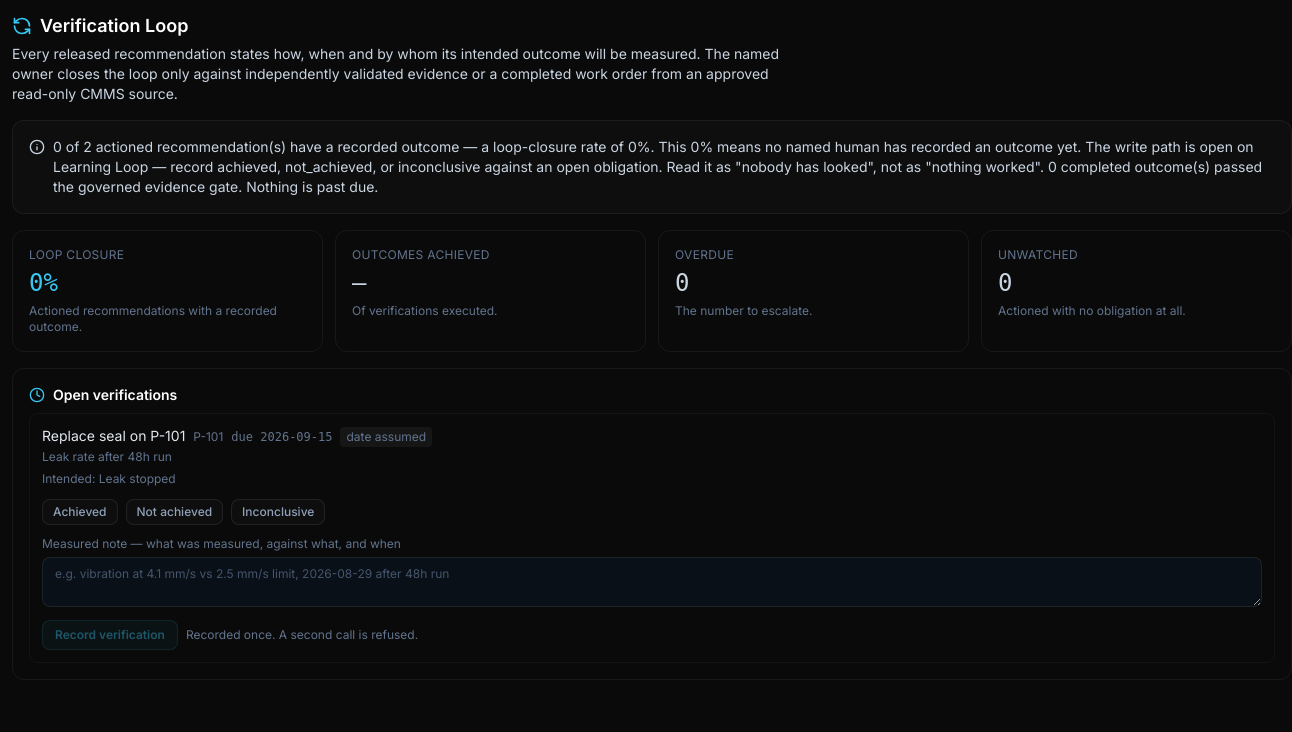
Test case: VerificationLoop — named-human recorder › surfaces a second-call refusal from the wrapper
The width and height of the screenshot is (1292, 732).
Expected: the text "Replace seal on P-101" is shown, 42,426 -> 185,446
Click the radio button labelled "Achieved" at x=80, y=512, box 42,498 -> 118,524
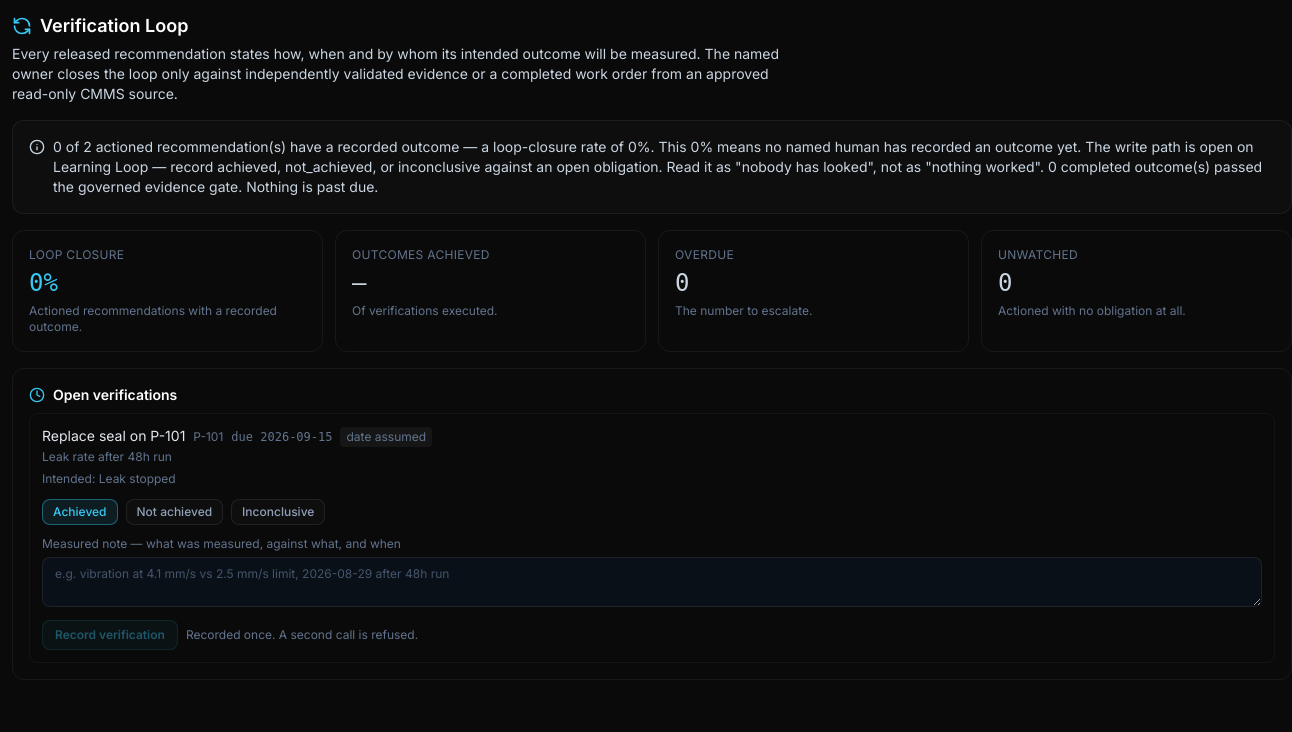
Replace the text in the text box with placeholder "vibration at 4.1 mm/s" with "looked again the next shift" at x=652, y=582, box 42,556 -> 1262,606
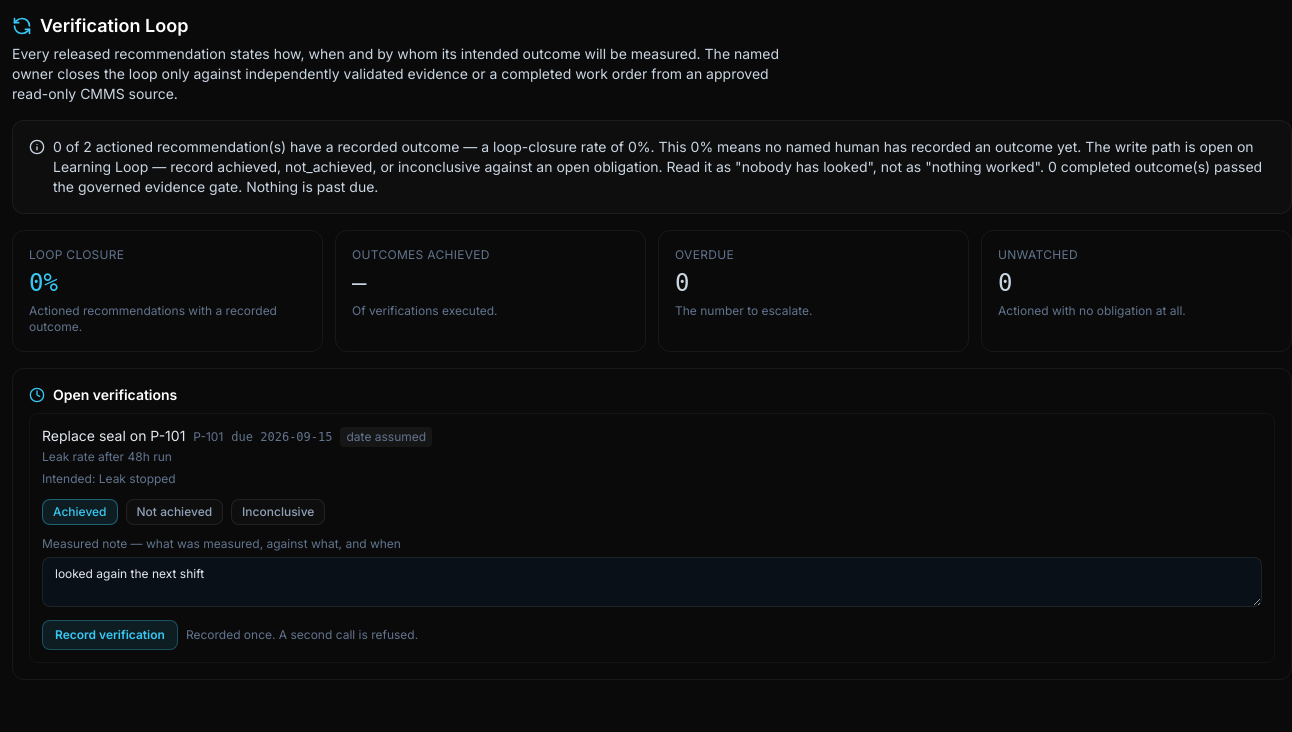
Click the button "Record verification" at x=110, y=634, box 42,620 -> 178,650
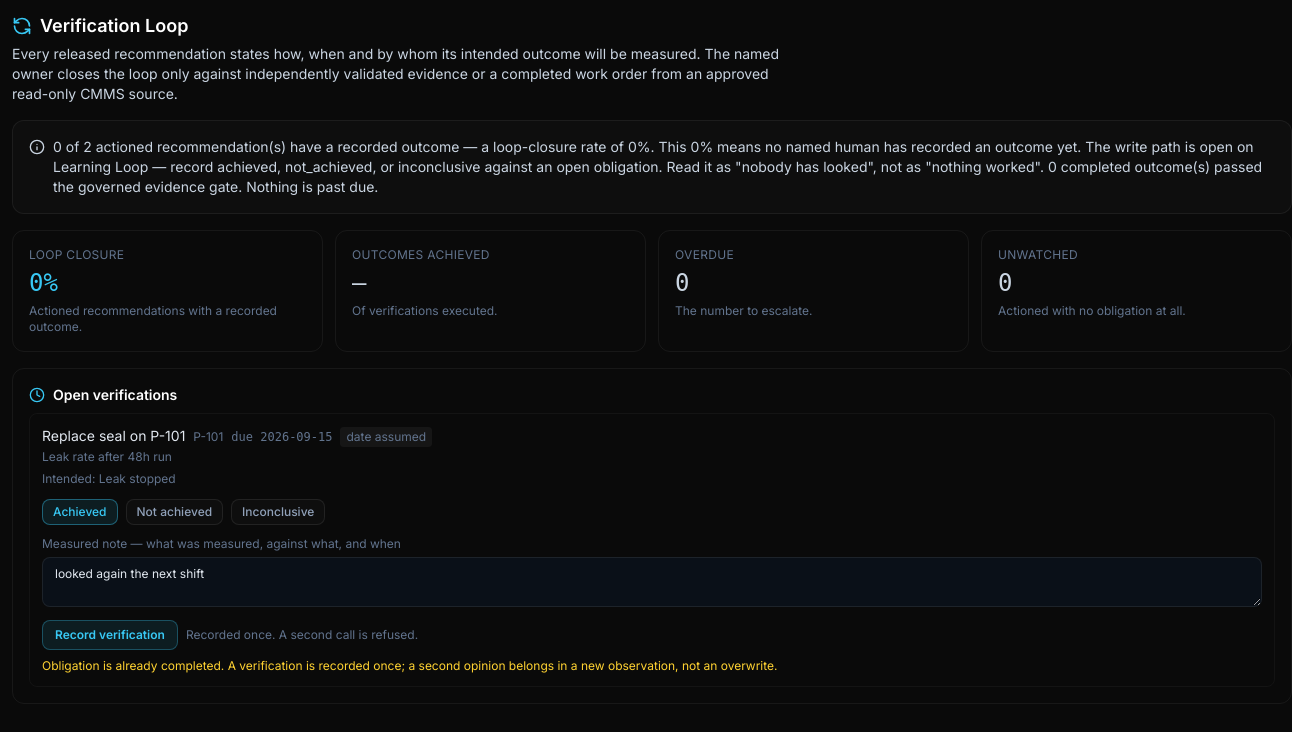
Now the message shows "recorded once", box 42,658 -> 778,672
